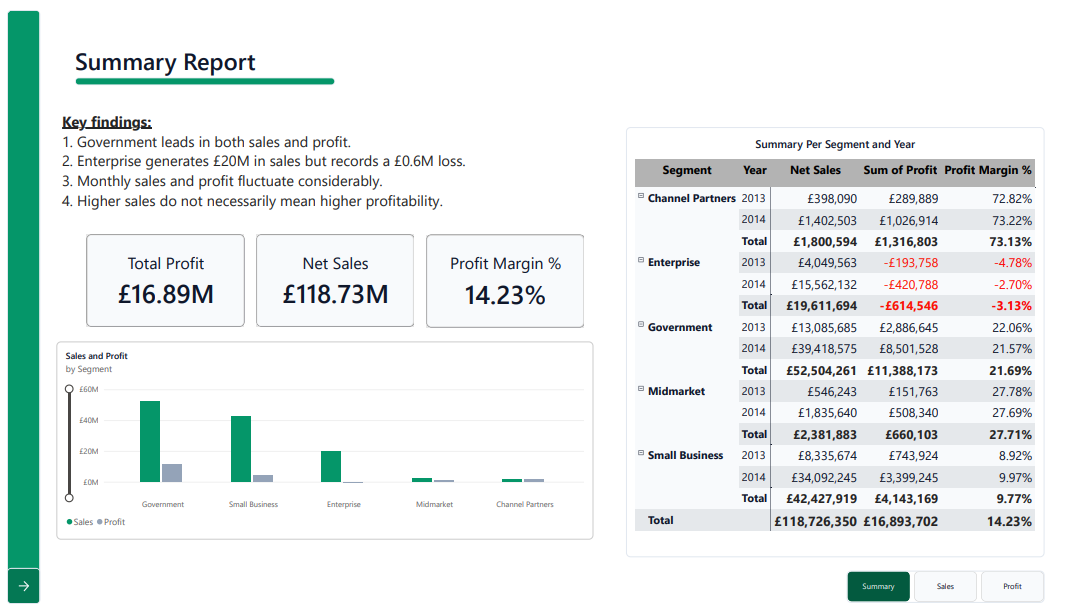

The dashboard page shown, as its layout file describes it:
{"tool":"powerbi","page":{"name":"Summary","canvas":[1920,1080],"ordinal":0},"visuals":[{"type":"shape","box":[0,0,60,1080],"z":0,"group":"g1"},{"type":"textbox","title":"Summary Report","box":[124.3,63.3,672.5,60],"z":0,"group":"g2"},{"type":"cardVisual","fields":{"Data":["Sum(financials.Profit)"]},"box":[145,407.5,287.8,168.5],"z":0,"group":"g3"},{"type":"shape","box":[124.3,123.3,472.5,12.5],"z":1000,"group":"g2"},{"type":"cardVisual","fields":{"Data":["financials.Profit Margin %"]},"box":[763.6,408.2,287.8,168.5],"z":1000,"group":"g3"},{"type":"actionButton","box":[0,1015,60,65],"z":1000,"group":"g1"},{"type":"group","id":"g1","title":"side bar","box":[0,0,60,1080],"z":2000},{"type":"cardVisual","fields":{"Data":["financials.Net Sales"]},"box":[454,407.5,287.8,168.5],"z":2000,"group":"g3"},{"type":"group","id":"g2","title":"Header","box":[124.3,63.3,672.9,72.7],"z":3000},{"type":"pivotTable","title":"Summary Per Segment and Year","fields":{"Rows":["financials.Segment","financials.Date.Variation.Date Hierarchy.Year"],"Values":["financials.Net Sales","Sum(financials.Profit)","financials.Profit Margin %"]},"box":[1127.5,212.5,762.5,782.5],"z":4000},{"type":"group","id":"g3","title":"Cards","box":[145,407.5,905,170],"z":5000},{"type":"lineClusteredColumnComboChart","fields":{"Category":["financials.Segment"],"Y":["Sum(financials. Sales)","Sum(financials.Profit)"]},"box":[90,602.5,977.5,360],"z":6001},{"type":"textbox","box":[100,182.5,807.5,192.5],"z":6002},{"type":"pageNavigator","box":[1530,1020,360,57.5],"z":6003}]}

Visuals, with their boxes in screenshot pixels (x1, y1, x2, y2), scaled from the page's 1920x1080 canvas onto the 1066x616 screenshot:
shape: 0,0,33,615
"Summary Report" textbox: 69,36,442,70
cardVisual - Sum(financials.Profit): 81,232,240,329
shape: 69,70,331,77
cardVisual - financials.Profit Margin %: 424,233,584,329
actionButton: 0,579,33,615
"side bar" group: 0,0,33,615
cardVisual - financials.Net Sales: 252,232,412,329
"Header" group: 69,36,443,78
"Summary Per Segment and Year" pivotTable: 626,121,1049,568
"Cards" group: 81,232,583,329
lineClusteredColumnComboChart - financials.Segment x Sum(financials. Sales): 50,344,593,549
textbox: 56,104,504,214
pageNavigator: 849,582,1049,615
